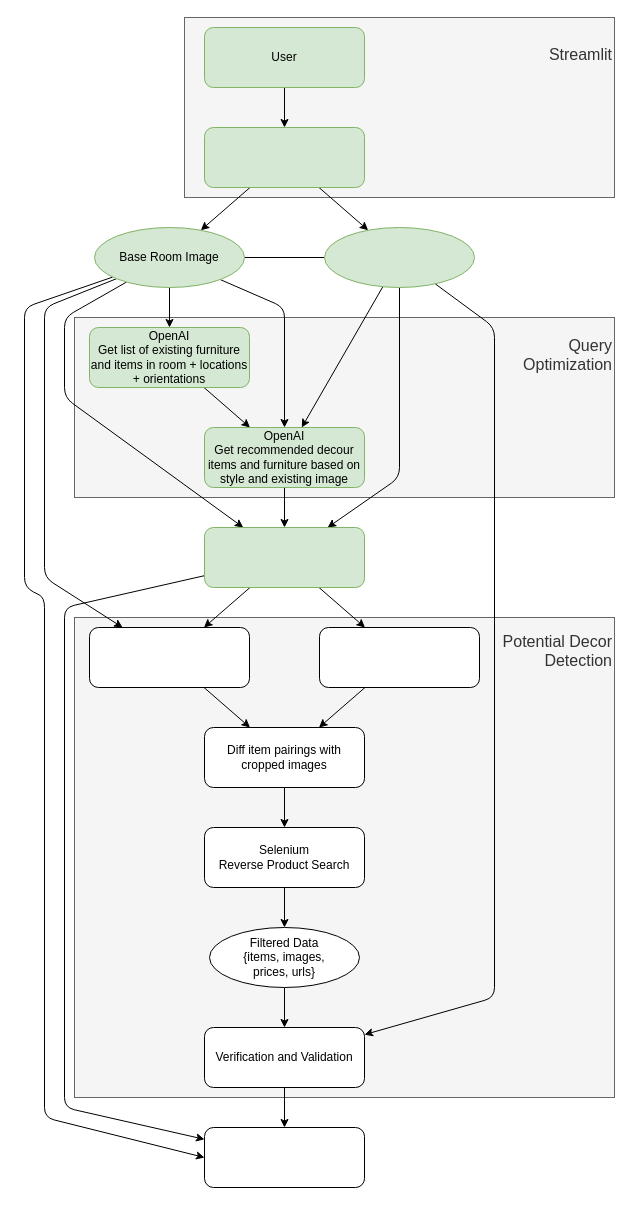
Image size: 632x1205. Some labels were removed from this diagram. Each missing label, with the centre of its shape:
OpenAI Object diff detection -- get a list of new added items: the point at 169,657
Output Streamlit UI: the point at 284,1157
Parameters {style, buget, etc.}: the point at 399,257
StableDesign Model Create our new room design: the point at 284,557
Streamlit UI: the point at 284,157
v7labs YOLO Object Bounding and Detection Model: the point at 399,657
